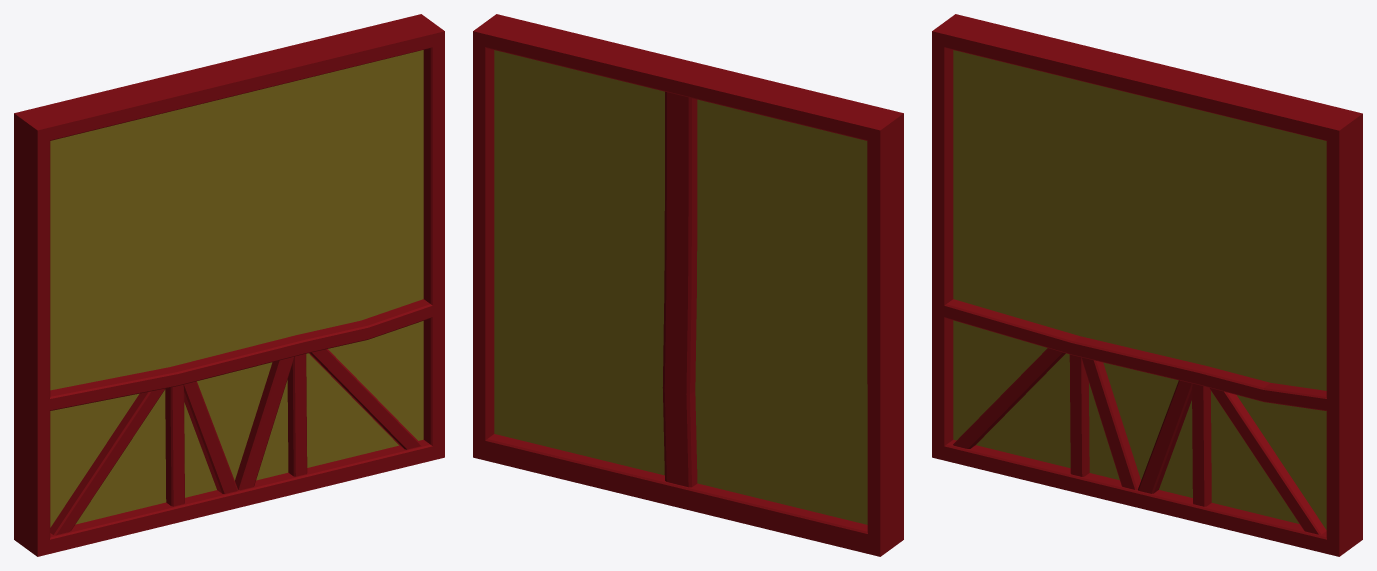
File: SM_MH_01_Plaster_Wall_03.fbx
3 views of the same model, side by side, from view 1: azimuth 30°, elevation 25°; view 2: azimuth 150°, elevation 25°; view 3: azimuth 330°, elevation 25° (orthographic).
Parts seen in each view (by area): view 1: SM_MH_01_Plaster_Wall_03_LOD0; view 2: SM_MH_01_Plaster_Wall_03_LOD0; view 3: SM_MH_01_Plaster_Wall_03_LOD0.
Part boxes in pixels (x1,y1,x2,y2): SM_MH_01_Plaster_Wall_03_LOD0: (14, 14, 444, 556); SM_MH_01_Plaster_Wall_03_LOD0: (473, 14, 903, 556); SM_MH_01_Plaster_Wall_03_LOD0: (932, 14, 1362, 556).
Size of what is drawn, in the model's own units: 300 by 300 by 30.
